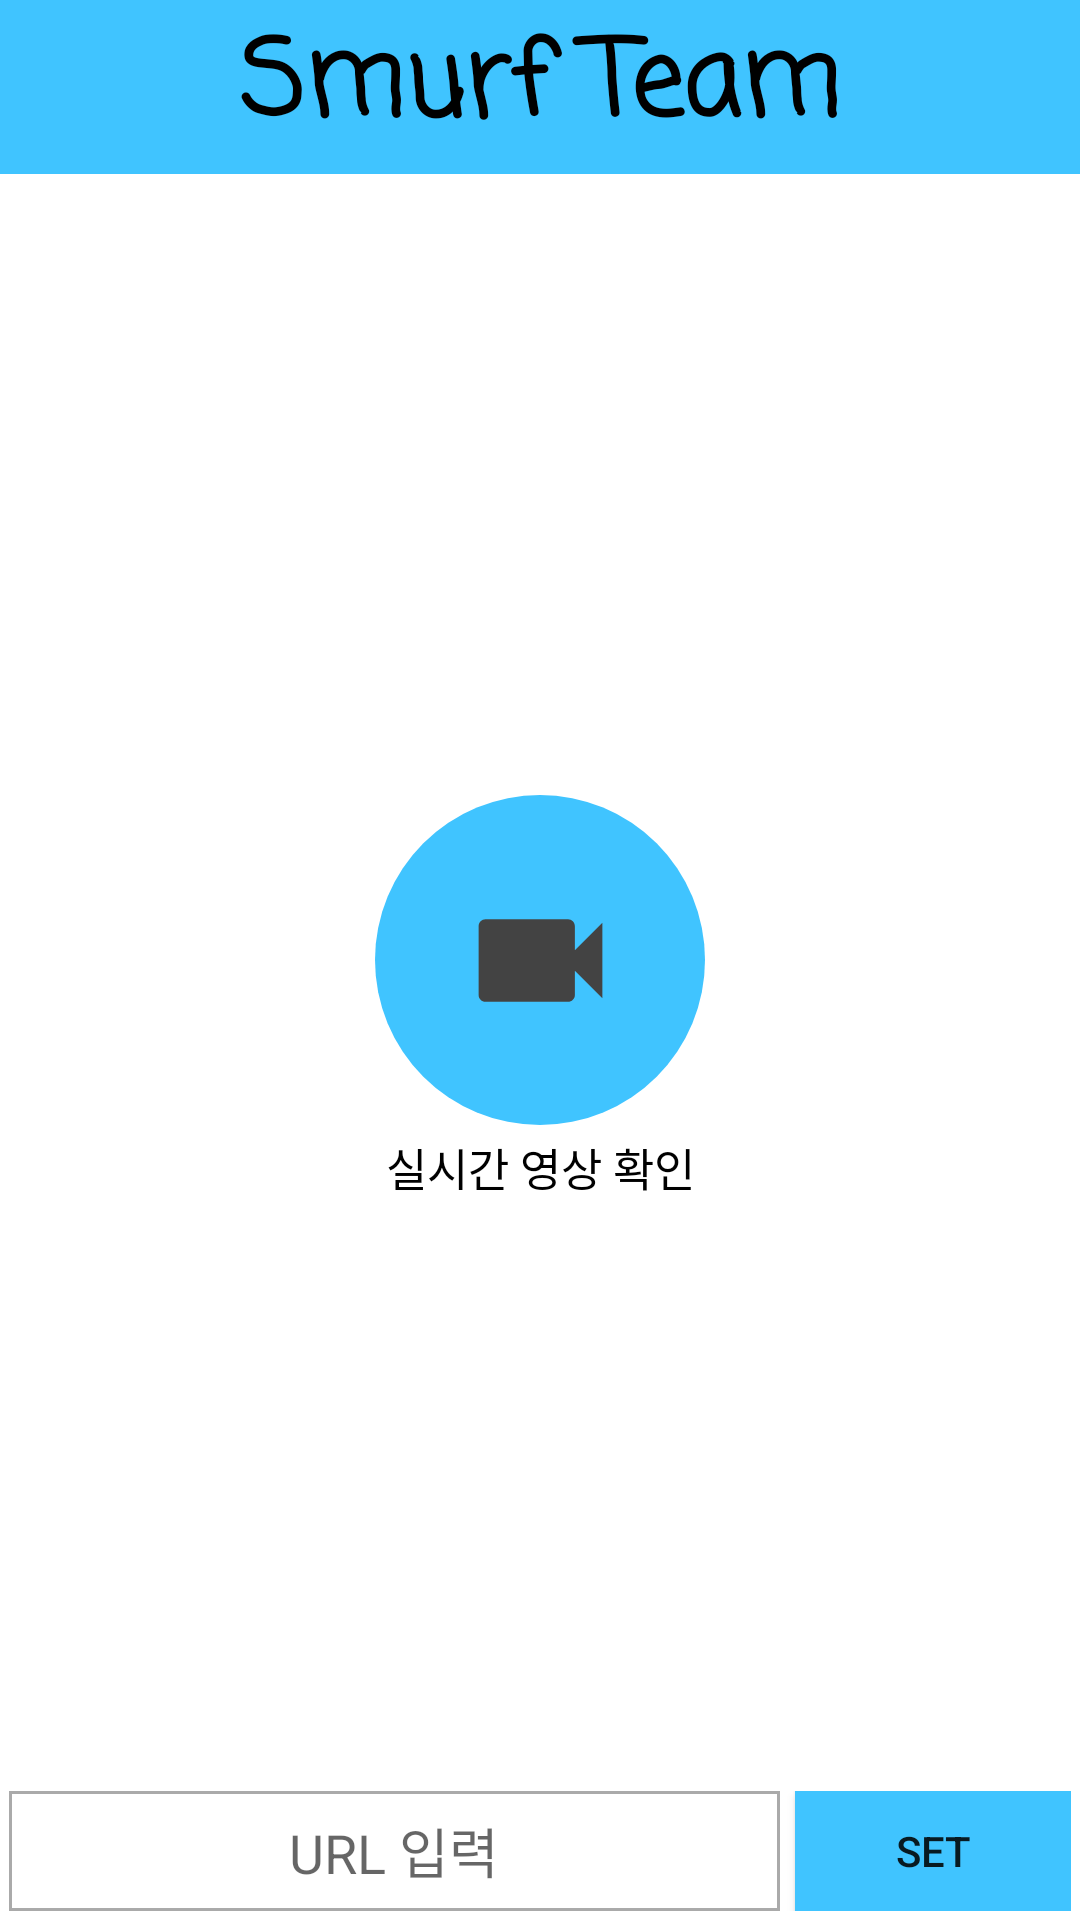

Locate icon controls on the screen. Image size 1080 × 1920, boxes as (x1, y1, x2, y2).
videocam: (478, 919, 603, 1002)
